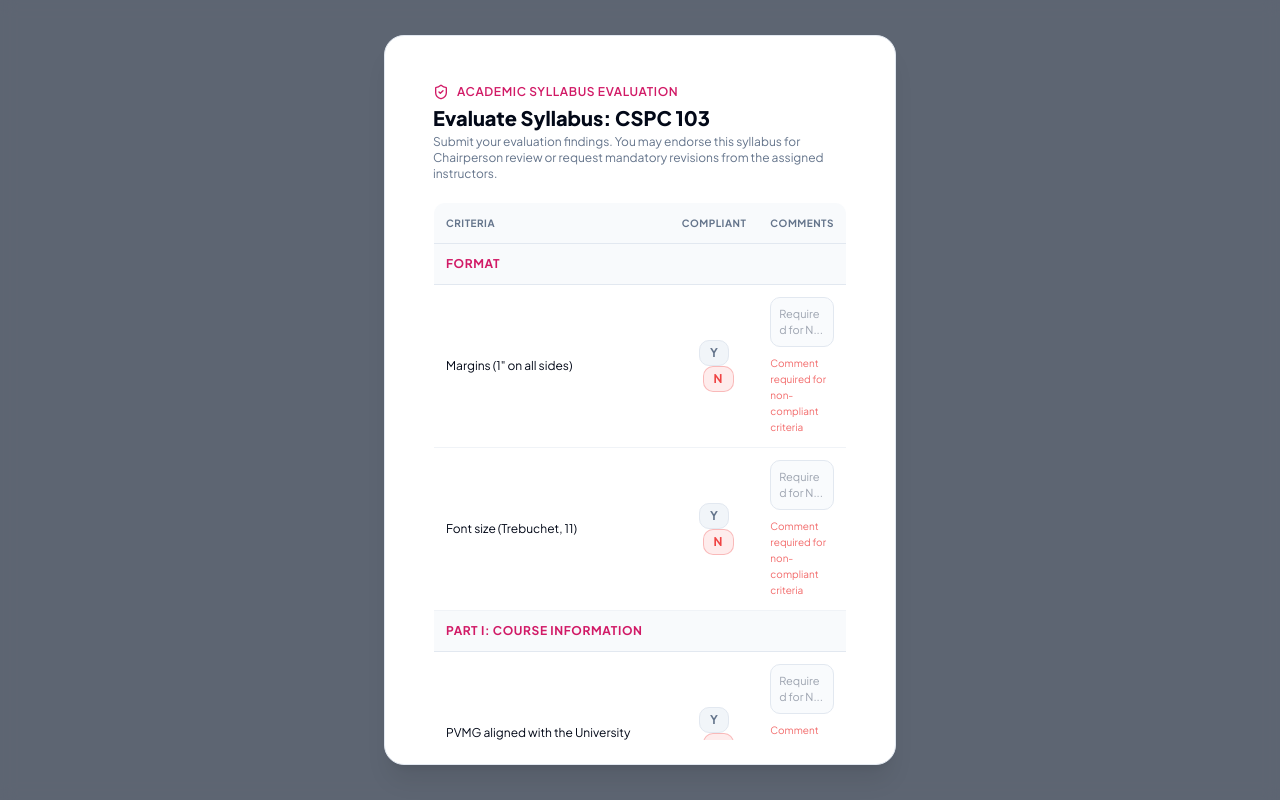
it: EvaluatorReviewModal › Approve is disabled while any criterion is N or commented
Click the button "Y" next to "Margins (1\" on all sides)". click: (714,353)
box: left=699, top=340, right=729, bottom=366
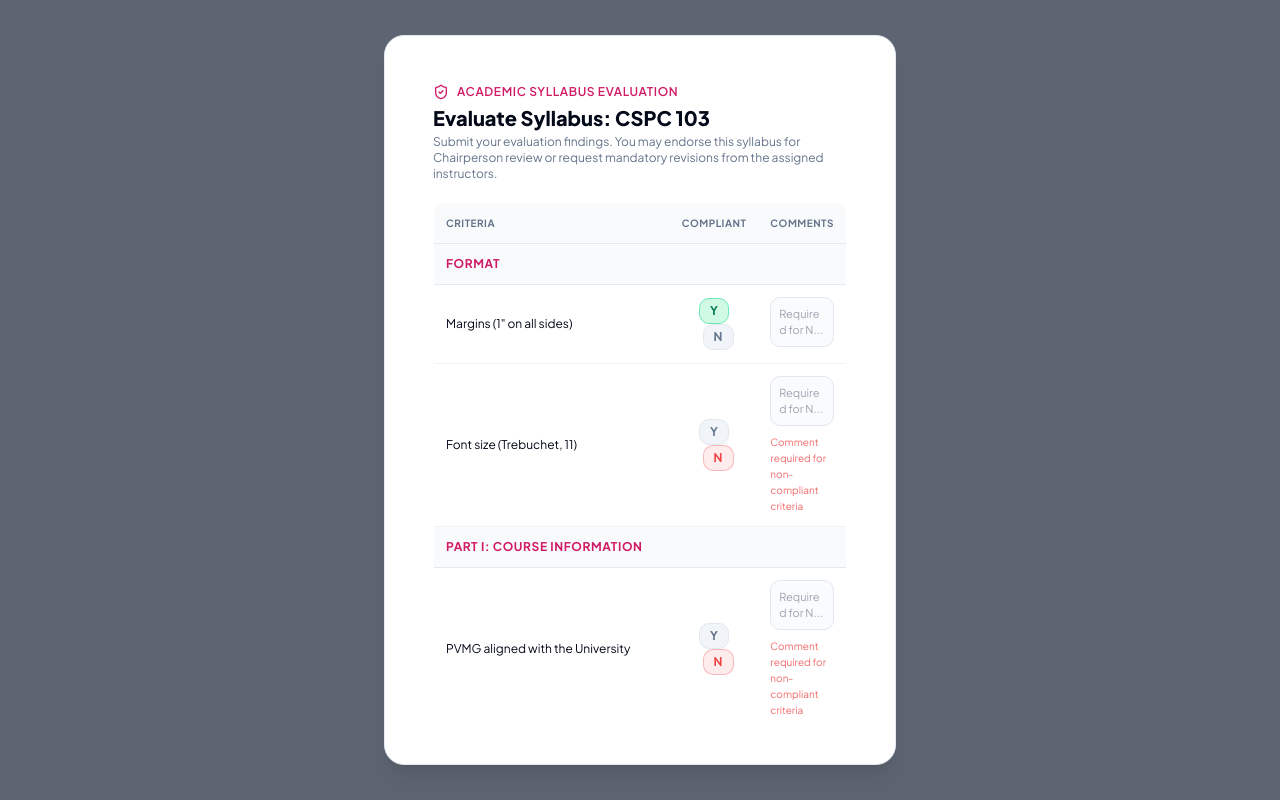
Click the button "Y" next to "Font size (Trebuchet, 11)". click: (714,432)
box: left=699, top=419, right=729, bottom=445
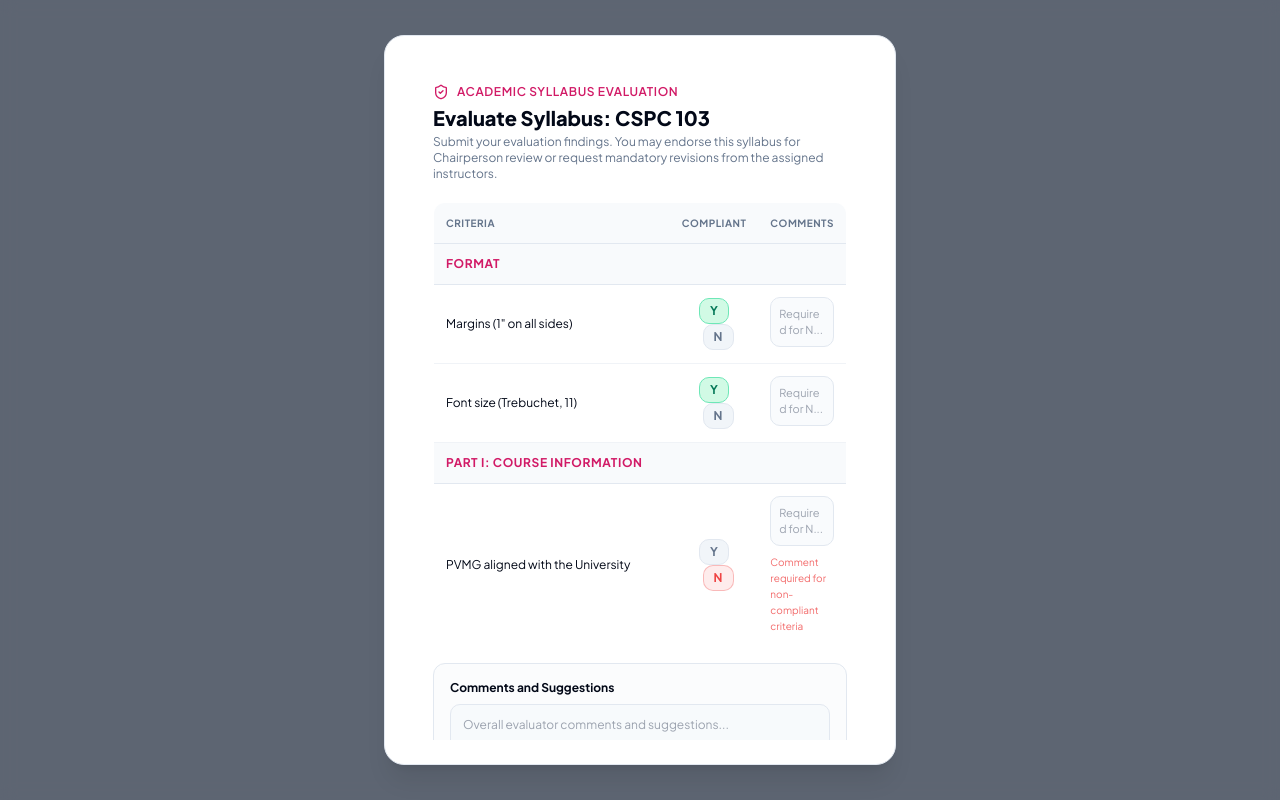
Click the button "Y" next to "PVMG aligned with the University". click: (714,552)
box: left=699, top=539, right=729, bottom=565
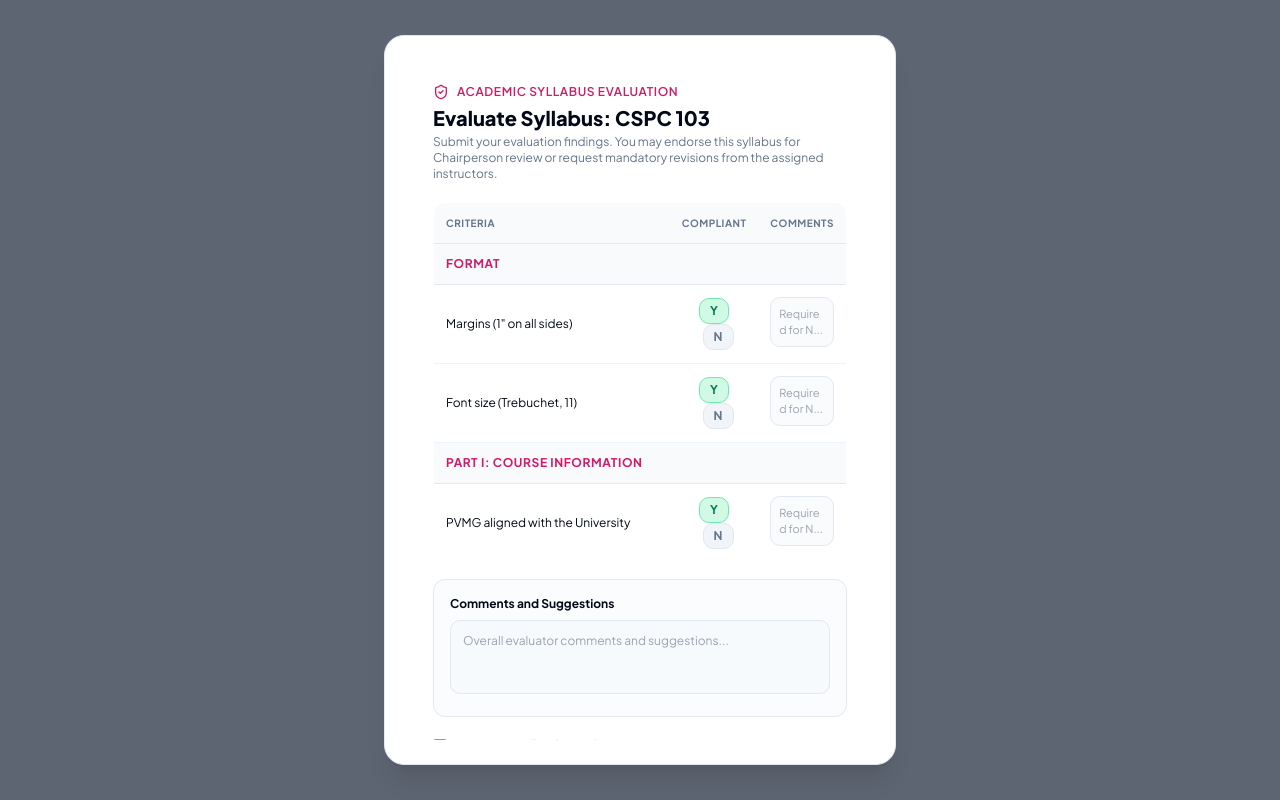
Click the button "N" next to "Margins (1\" on all sides)". click: (718,337)
box: left=703, top=324, right=734, bottom=350
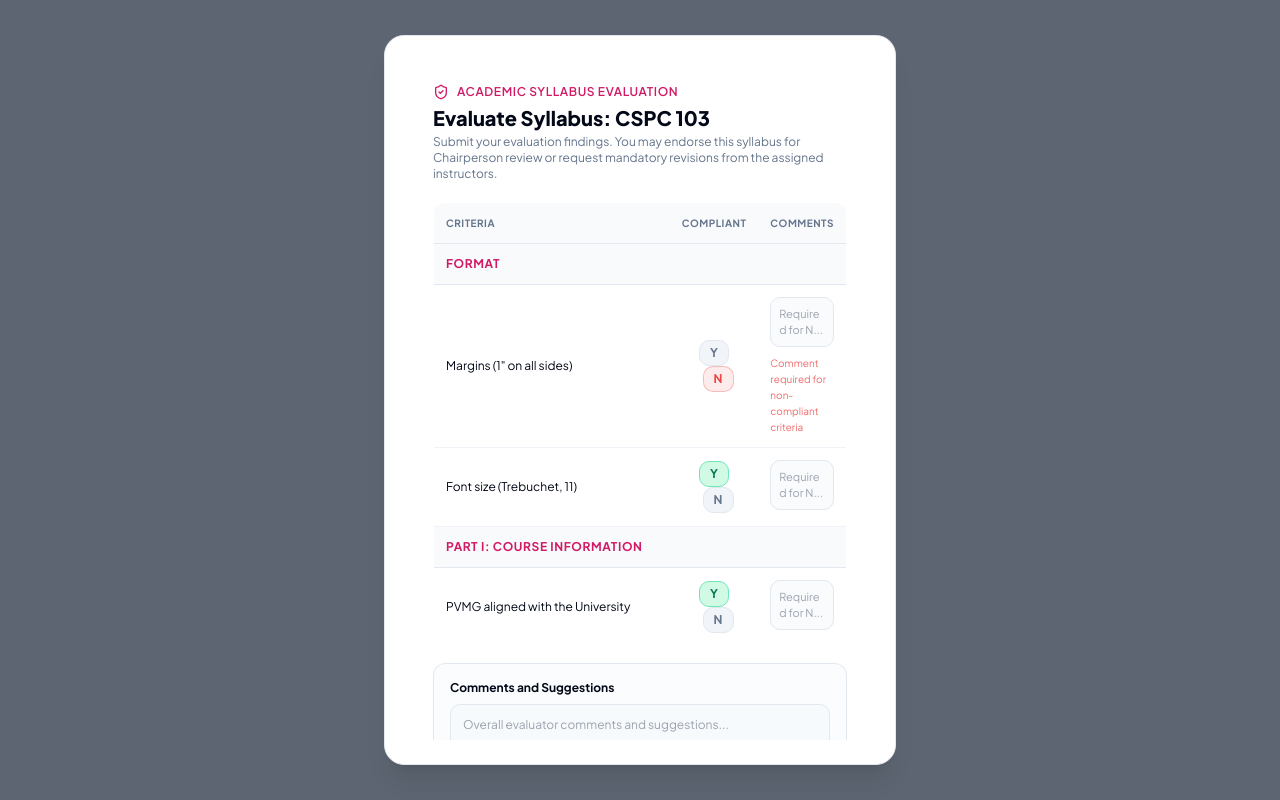
Click the button "Y" next to "Margins (1\" on all sides)". click: (714,353)
box: left=699, top=340, right=729, bottom=366
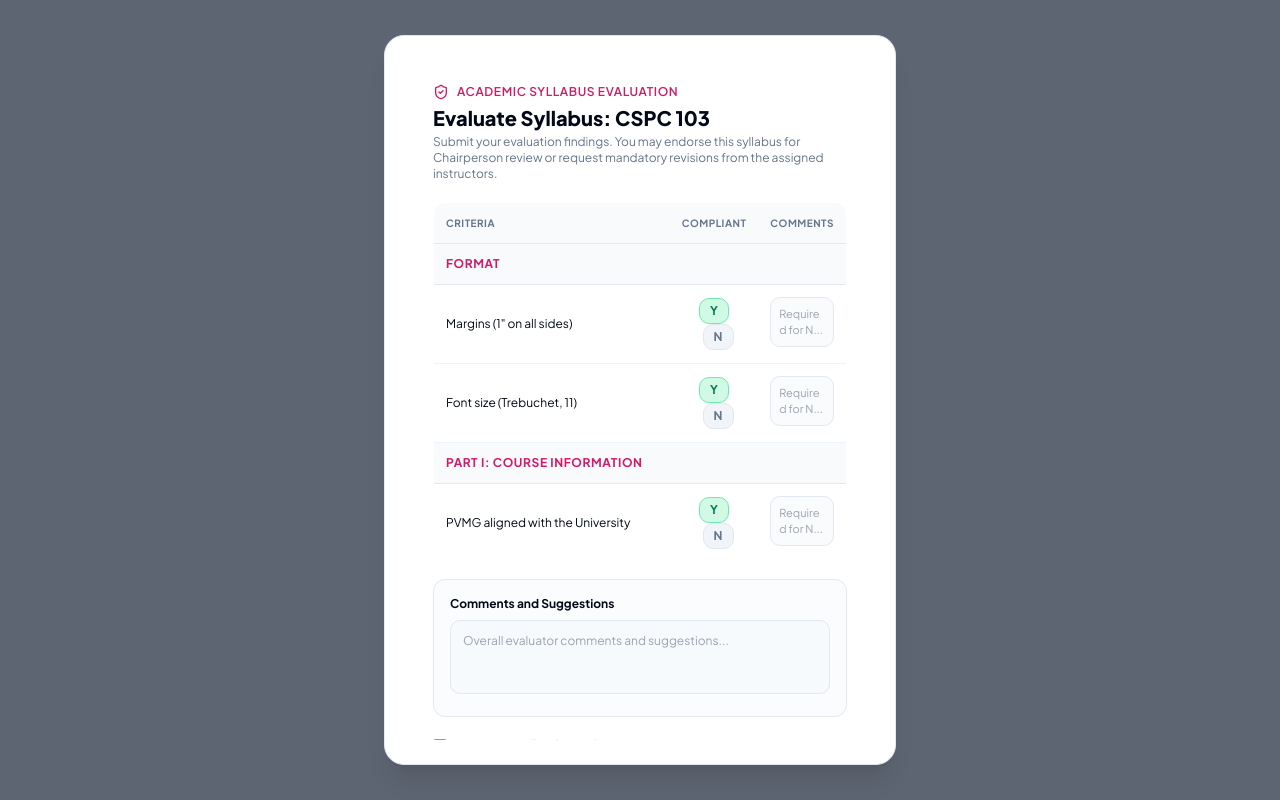
Type "Margin is 0.5\"" into the text box with placeholder "Required for N..." in the row of "Margins (1\" on all sides)". click: (802,322)
box: left=770, top=297, right=834, bottom=347
(page scrolled)
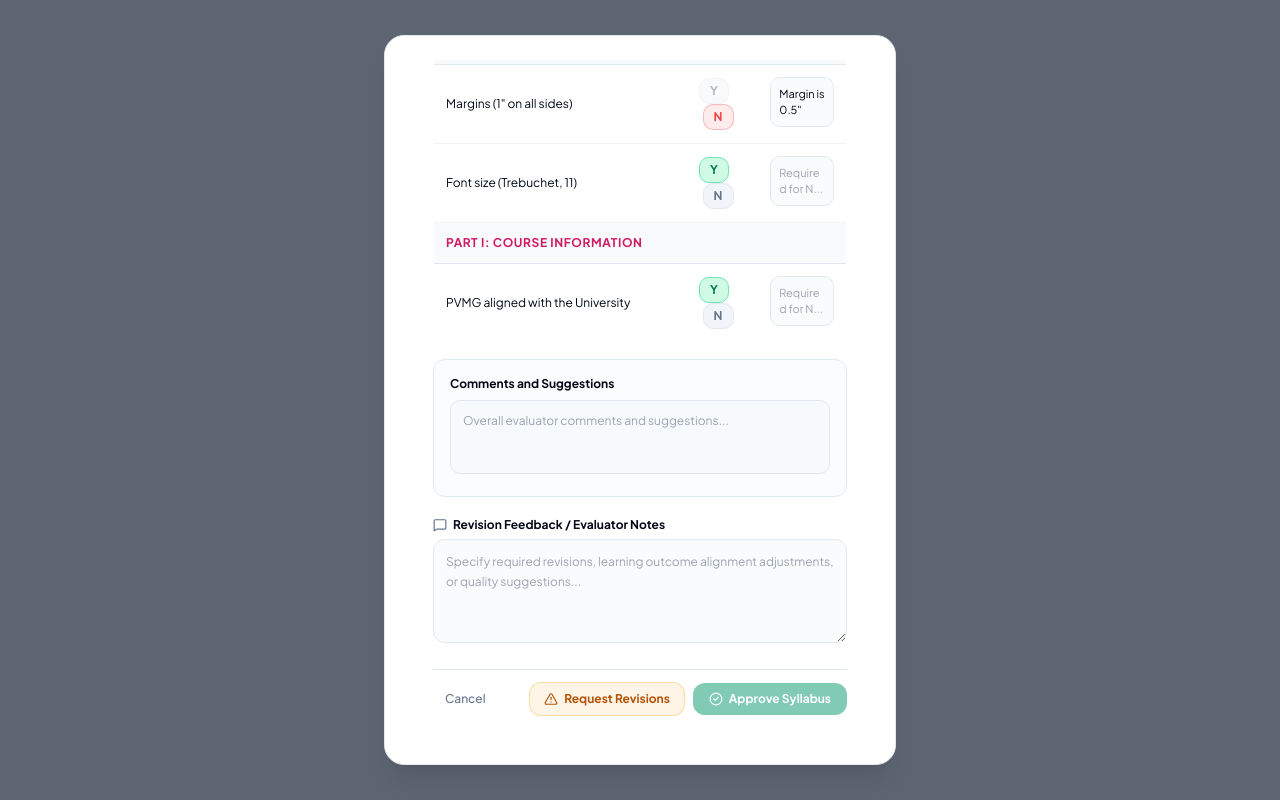
Expected: the button "Approve Syllabus" is disabled, left=693, top=683, right=847, bottom=715
